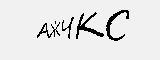А: (37, 22, 50, 40)
Ж: (50, 19, 61, 39)
К: (75, 11, 105, 44)
С: (105, 8, 133, 43)
Ч: (61, 16, 74, 40)
